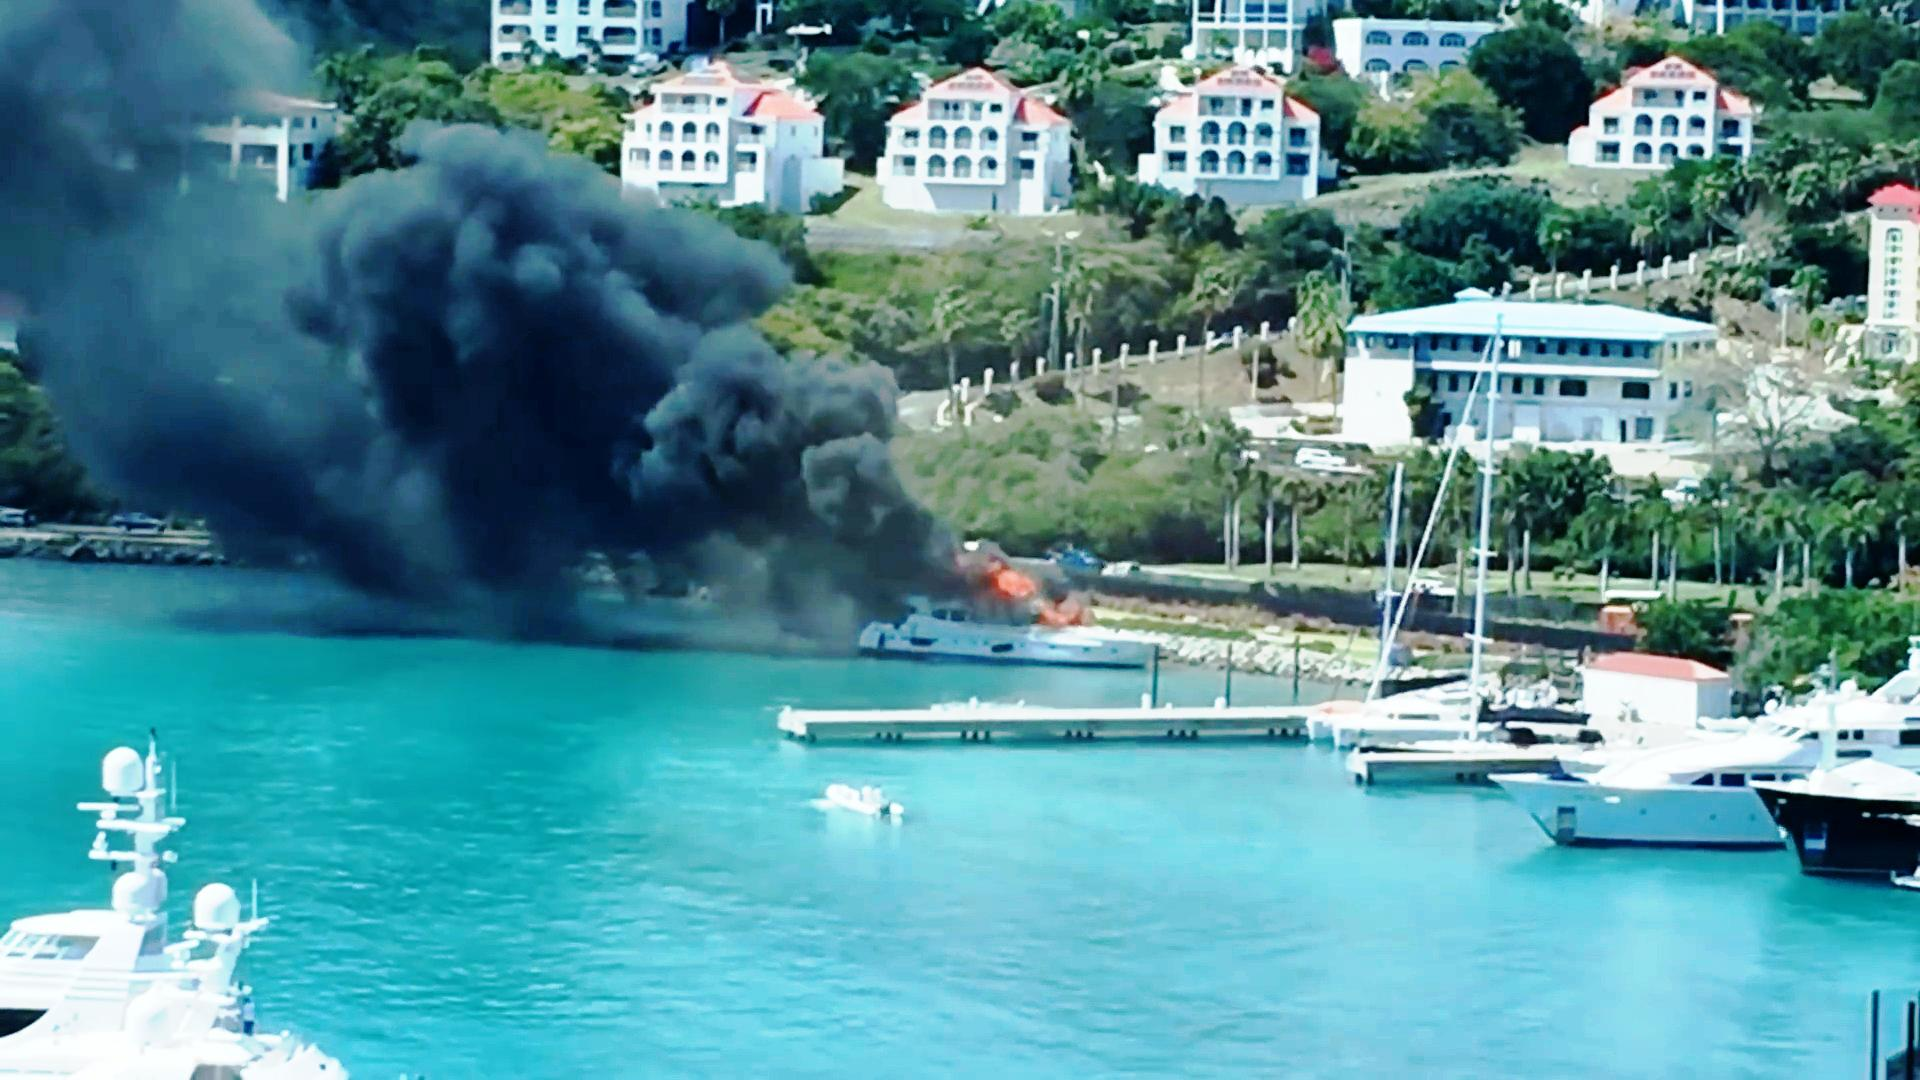smoke: (303, 128, 761, 541), (0, 0, 284, 527), (637, 343, 920, 537)
